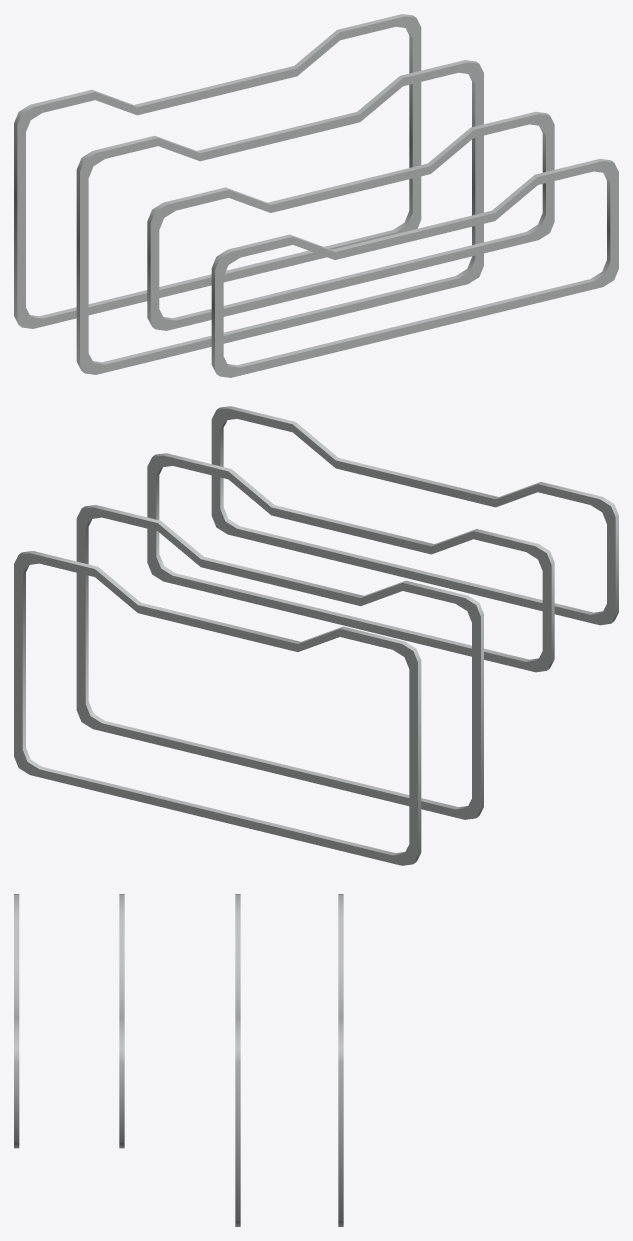
File: FridgebodymeshFridgeE3_0_GeomSubset_1.obj
The picture shows the model from 3 angles, top to bottom: view 1: azimuth 30°, elevation 25°; view 2: azimuth 150°, elevation 25°; view 3: azimuth 270°, elevation 25°; orthographic projection. The views are drawn at different scales.
Parts seen in each view (by area): view 1: FridgebodymeshFridgeE3_0_GeomSubset_1; view 2: FridgebodymeshFridgeE3_0_GeomSubset_1; view 3: FridgebodymeshFridgeE3_0_GeomSubset_1.
Part boxes in pixels (x1=…): FridgebodymeshFridgeE3_0_GeomSubset_1: x1=14, y1=14, x2=618, y2=377; FridgebodymeshFridgeE3_0_GeomSubset_1: x1=14, y1=406, x2=618, y2=865; FridgebodymeshFridgeE3_0_GeomSubset_1: x1=14, y1=894, x2=343, y2=1226.
Bounding box in the file's own units: 0.963 × 0.5052 × 1.52.
